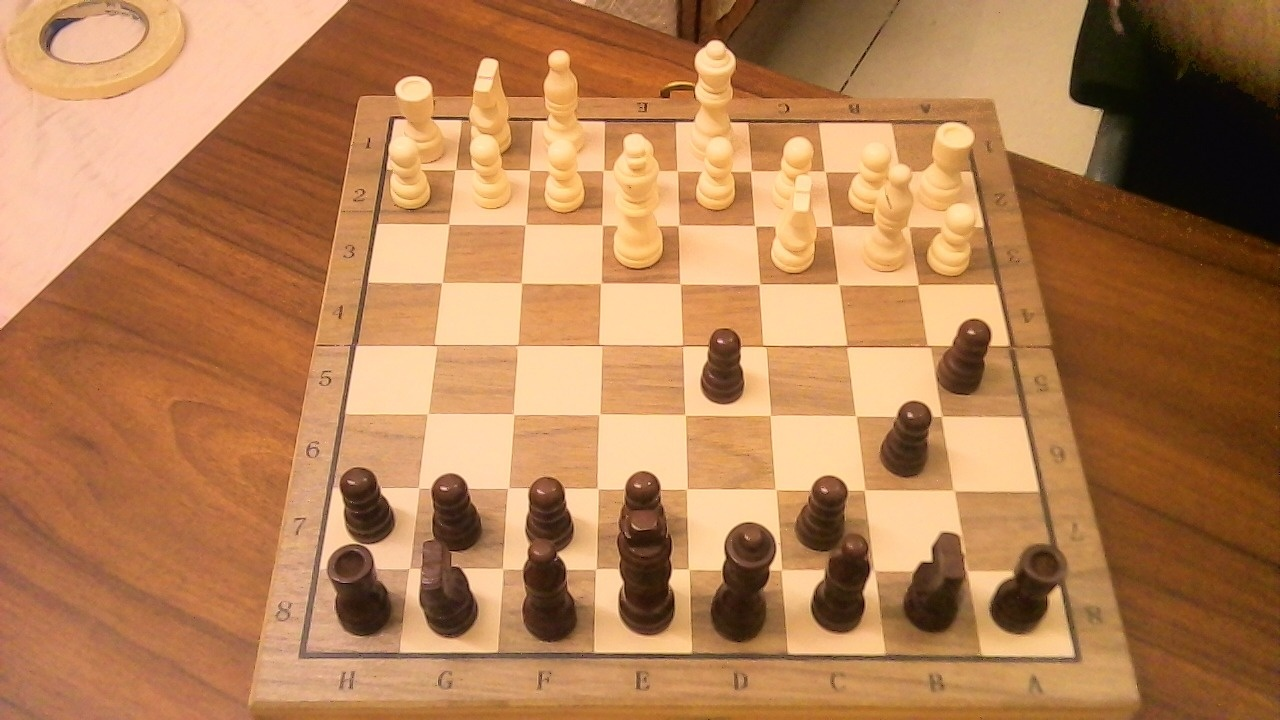B: (855, 154, 923, 277), (535, 38, 593, 158)
K: (606, 123, 674, 271)
N: (763, 163, 830, 278), (461, 47, 519, 159)
P: (841, 134, 914, 218), (922, 194, 985, 278), (460, 125, 518, 214), (764, 128, 822, 215), (535, 130, 592, 217), (688, 127, 744, 215), (382, 128, 437, 211), (607, 126, 661, 200)
Q: (683, 29, 745, 167)
R: (917, 111, 983, 215), (390, 67, 451, 166)
b: (803, 520, 886, 638), (509, 537, 591, 646)
k: (610, 520, 680, 640)
n: (411, 525, 490, 641), (922, 517, 979, 634)
p: (331, 456, 405, 544), (422, 461, 494, 551), (875, 388, 944, 480), (691, 317, 756, 408), (937, 307, 1001, 397), (522, 477, 576, 550), (618, 470, 668, 545), (803, 475, 853, 550)
q: (702, 510, 790, 647)
r: (985, 531, 1077, 639), (321, 533, 401, 638)
